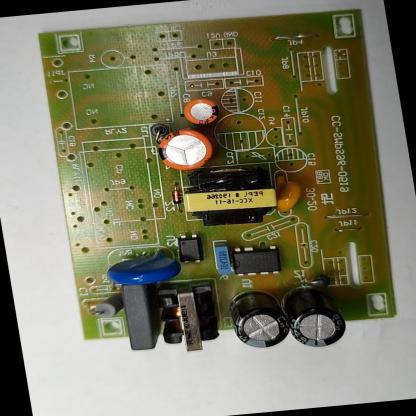Cap1: (151, 124, 217, 174)
Cap2: (182, 97, 223, 127)
Cap3: (225, 284, 295, 351)
Cap4: (281, 280, 352, 351)
MOSFET: (229, 244, 281, 278)
Mov: (103, 244, 184, 289)
Resistor: (90, 290, 125, 320)
Transformer: (177, 164, 284, 230), (150, 280, 226, 357)
